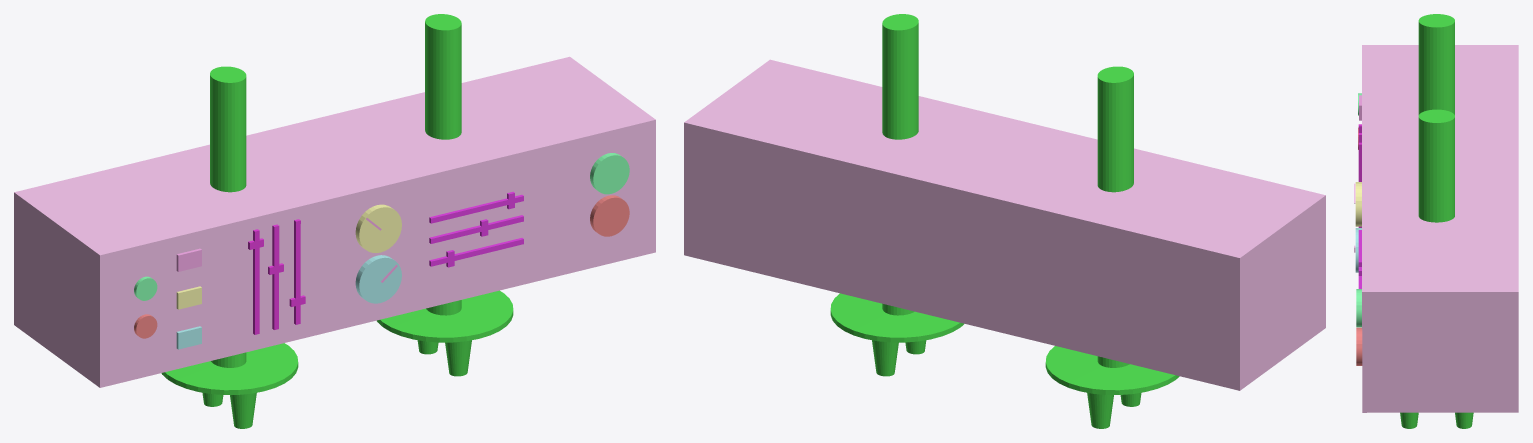
Rendered from jedinica2.1.fbx.
3 views of the same model, side by side, from view 1: azimuth 30°, elevation 25°; view 2: azimuth 150°, elevation 25°; view 3: azimuth 270°, elevation 25° (orthographic). The views are drawn at different scales.
Visible parts, largest first — view 1: Cube_009, Cylinder.007, Cylinder.004, Cube_009.015, Cube_009.016, Cube_009.012, Cube_009.014, Cube_009.018, Cube_009.017, Cube_009.019, Cube_009.020, Cube_009.022 (+1 smaller); view 2: Cube_009, Cylinder.007, Cylinder.004; view 3: Cube_009, Cylinder.007, Cylinder.004, Cube_009.015, Cube_009.014, Cube_009.012, Cube_009.016.
Boxes of the visible parts, box(x1,y1,x2,y2) form: Cube_009: box(14, 56, 655, 387); Cylinder.007: box(377, 14, 513, 376); Cylinder.004: box(161, 66, 298, 428); Cube_009.015: box(355, 204, 401, 252); Cube_009.016: box(355, 255, 401, 303); Cube_009.012: box(590, 153, 629, 194); Cube_009.014: box(590, 195, 629, 236); Cube_009.018: box(272, 224, 279, 329); Cube_009.017: box(253, 229, 259, 334); Cube_009.019: box(294, 219, 300, 324); Cube_009.020: box(429, 194, 523, 223); Cube_009.022: box(429, 238, 523, 266); Cube_009: box(684, 59, 1325, 390); Cylinder.007: box(830, 14, 964, 376); Cylinder.004: box(1045, 66, 1179, 428); Cube_009: box(1362, 45, 1518, 412); Cylinder.007: box(1400, 109, 1473, 428); Cylinder.004: box(1418, 14, 1454, 114); Cube_009.015: box(1355, 182, 1361, 226); Cube_009.014: box(1356, 327, 1362, 365); Cube_009.012: box(1356, 289, 1361, 327); Cube_009.016: box(1355, 228, 1361, 272).
Size of the model in its own units: 1358 by 793 by 383.
